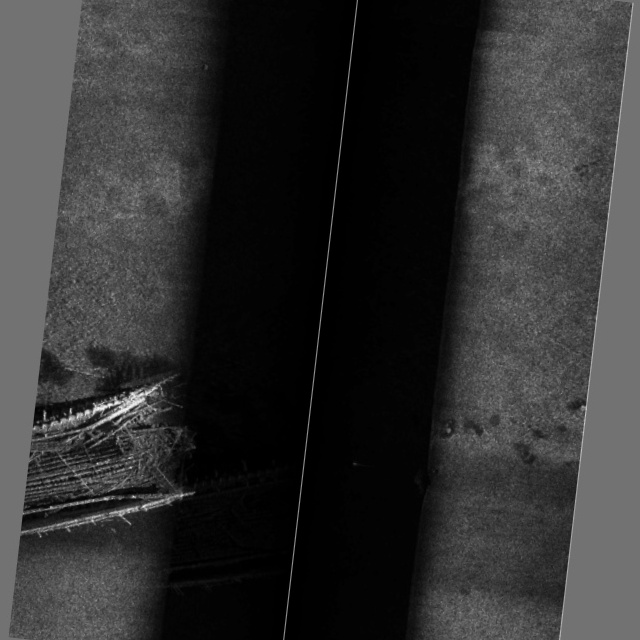Shipwreck: (15, 356, 299, 606)
